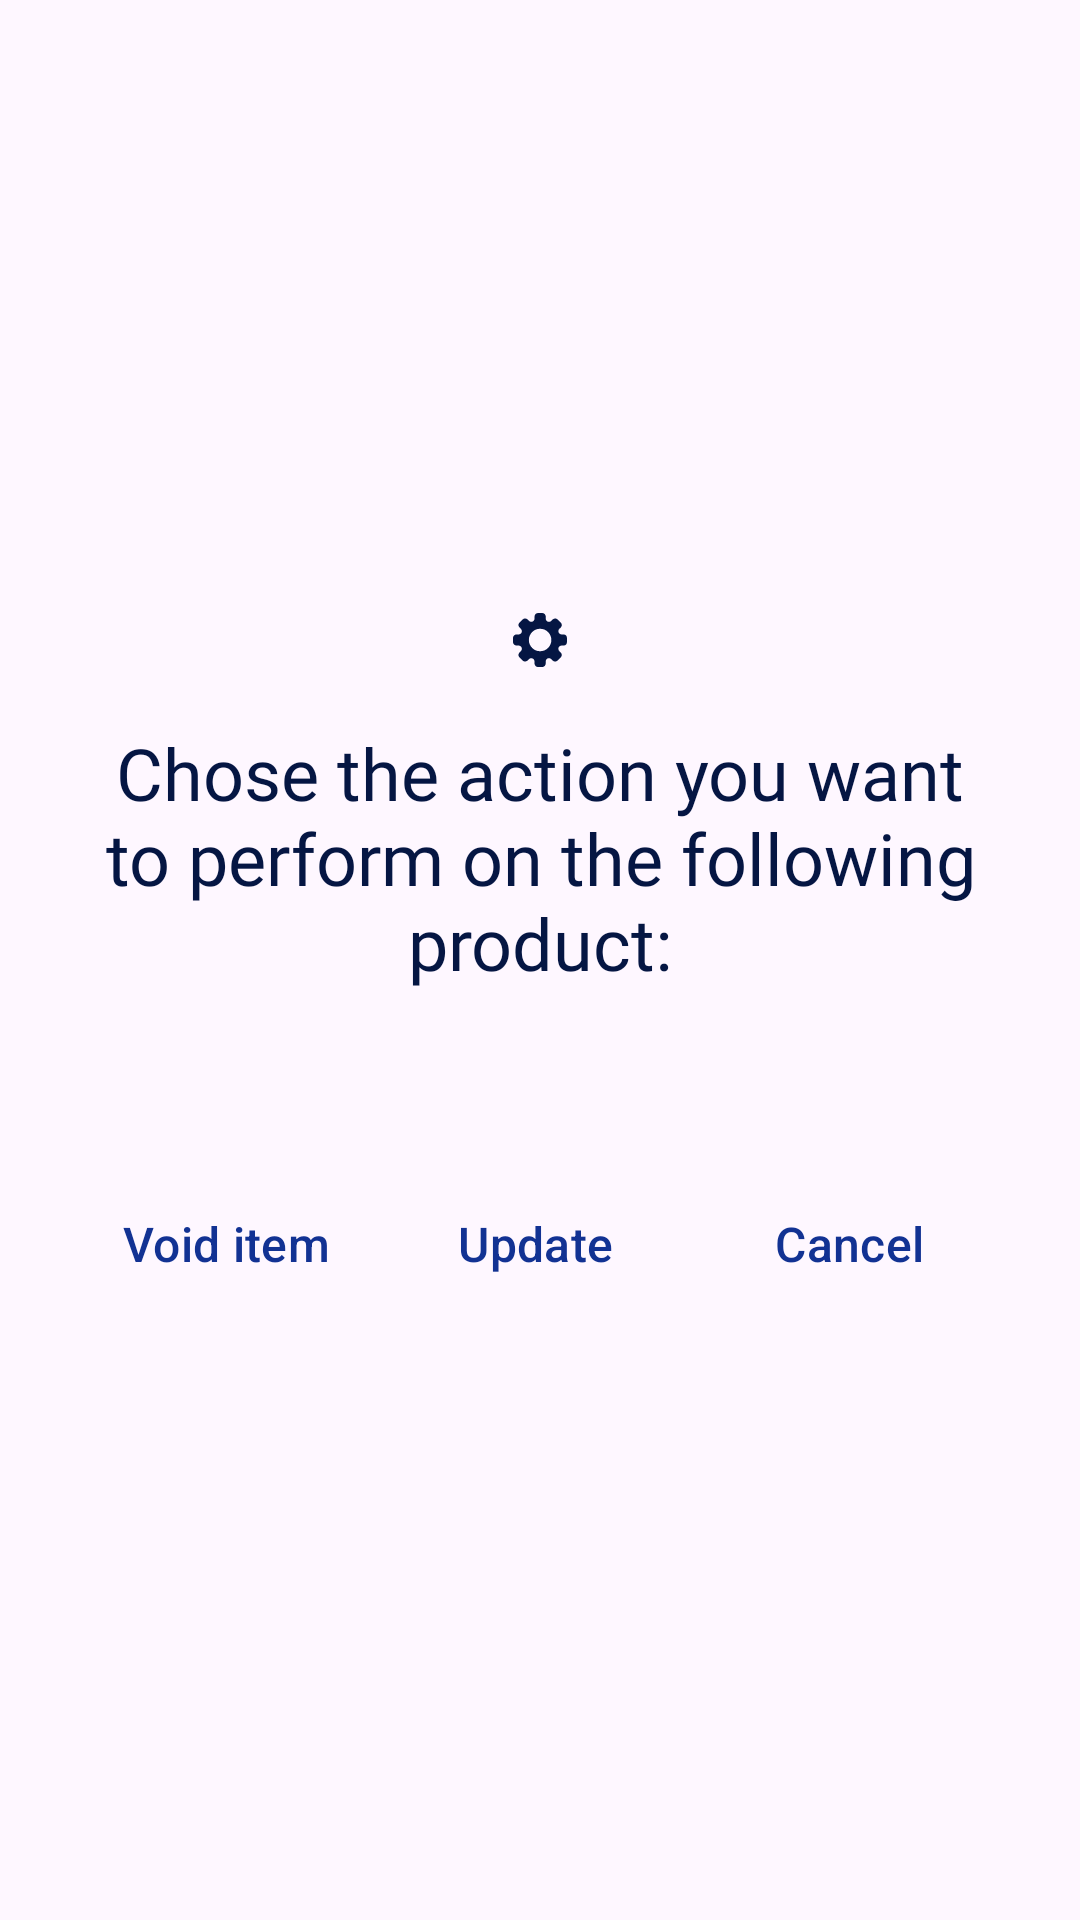

Locate icon controls on the screen. Image size 1080 x 1920, boxes as (x1, y1, x2, y2).
gear: (513, 613, 567, 667)
